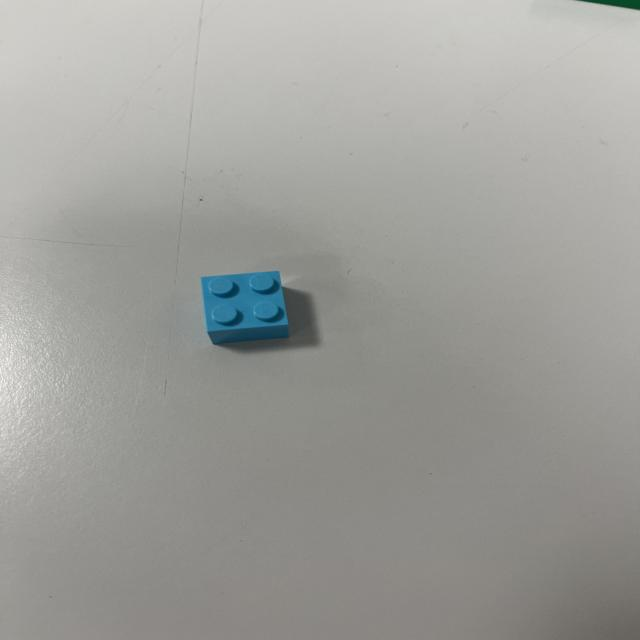C2x1x1: (200, 269, 290, 345)
